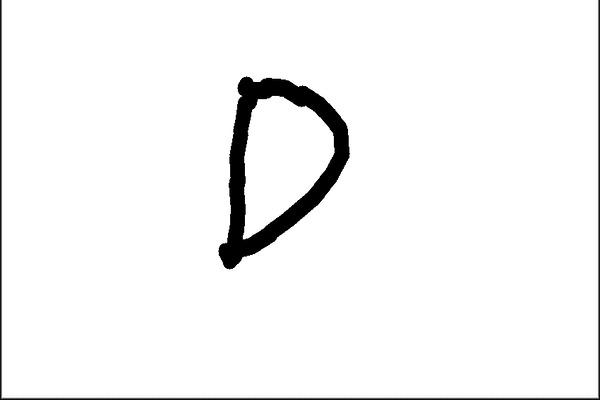D: (215, 67, 355, 272)
